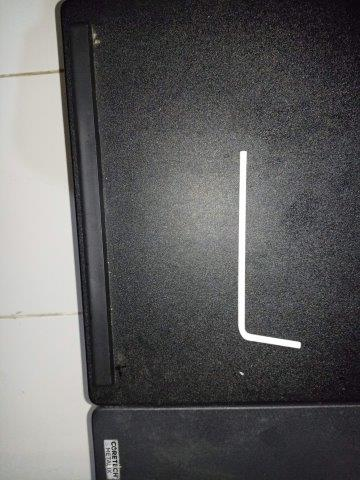sedotan: (237, 151, 301, 349)
